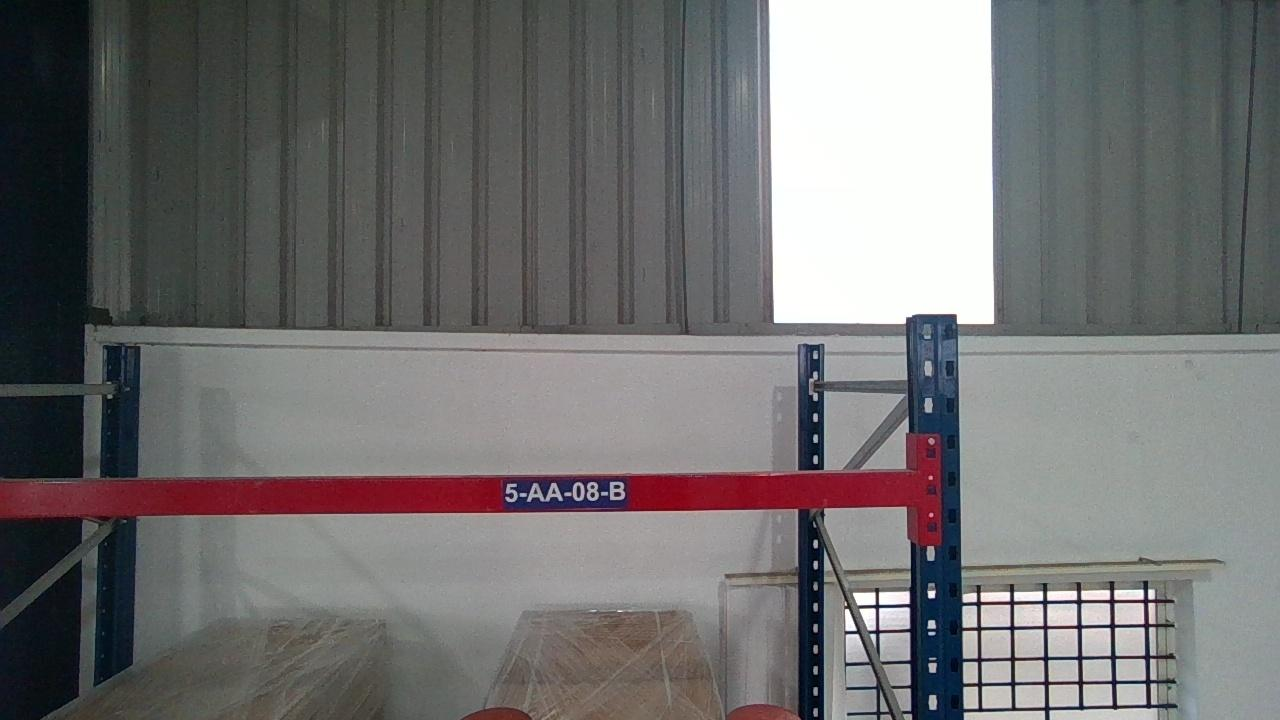h_rack: (1, 474, 919, 515)
